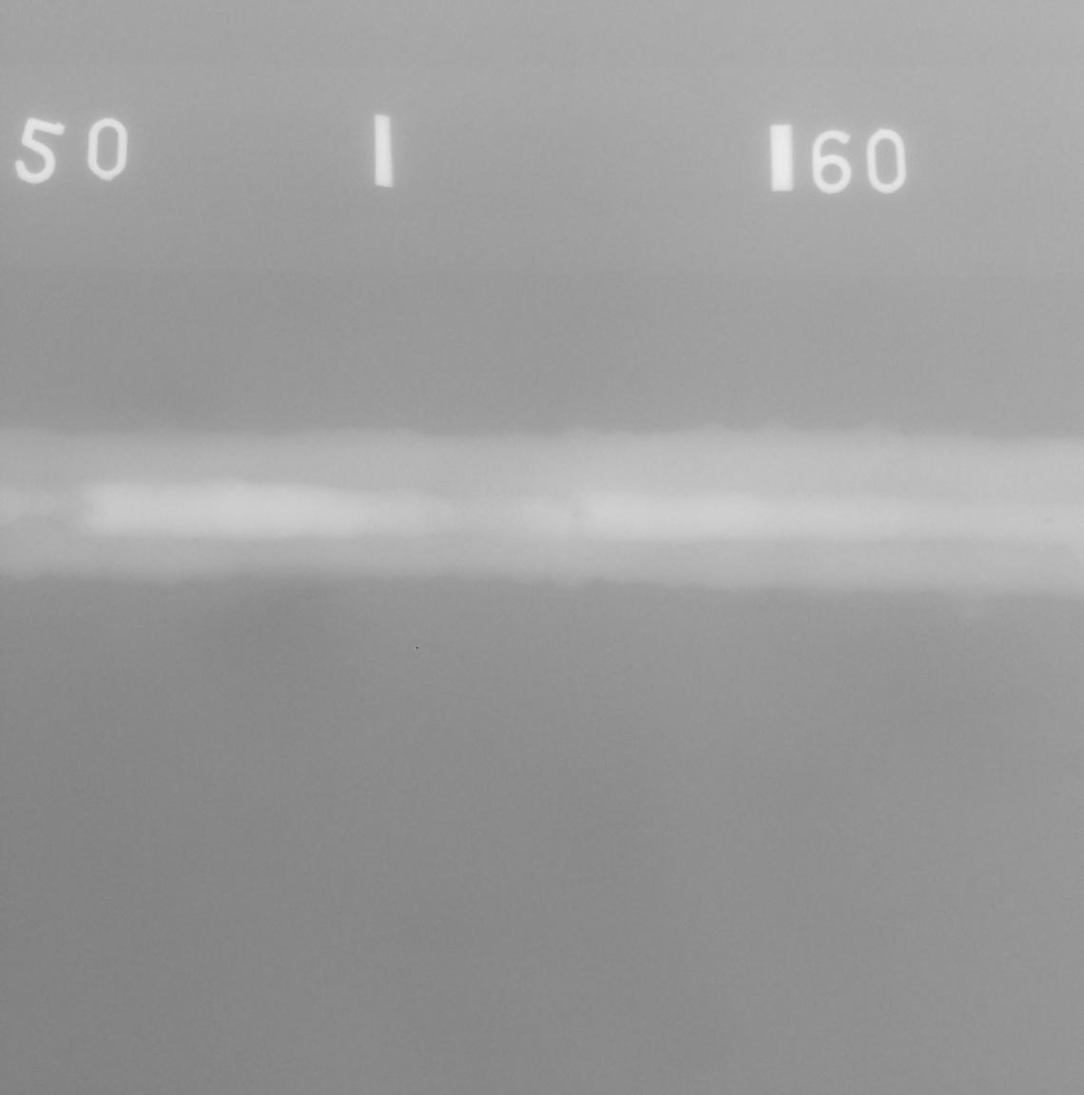Inclusion: (79, 504, 84, 508)
Incomplete Root Penetration: (573, 512, 583, 516)
Pore/Porosity: (1045, 517, 1053, 523), (1058, 544, 1065, 550), (120, 538, 127, 542)
